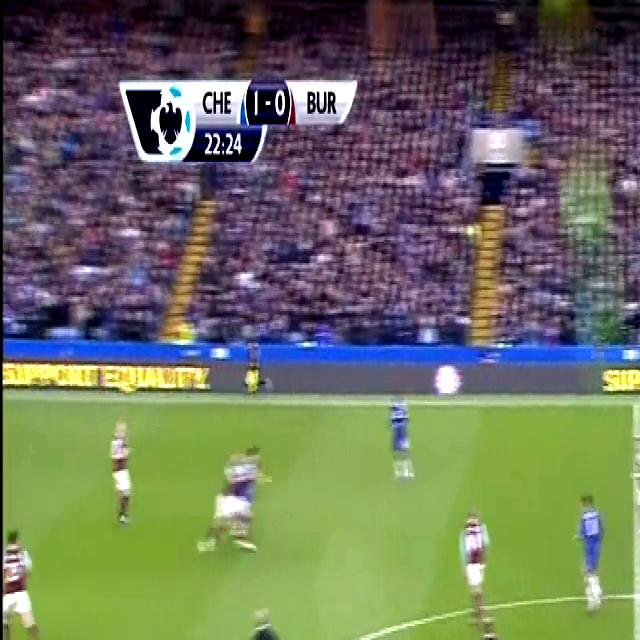referee: (238, 326, 273, 405), (243, 601, 290, 640)
soccer-player: (566, 478, 614, 620), (1, 512, 51, 640), (448, 498, 492, 620), (100, 409, 142, 533), (378, 377, 420, 496), (618, 423, 640, 541), (467, 611, 526, 640)
